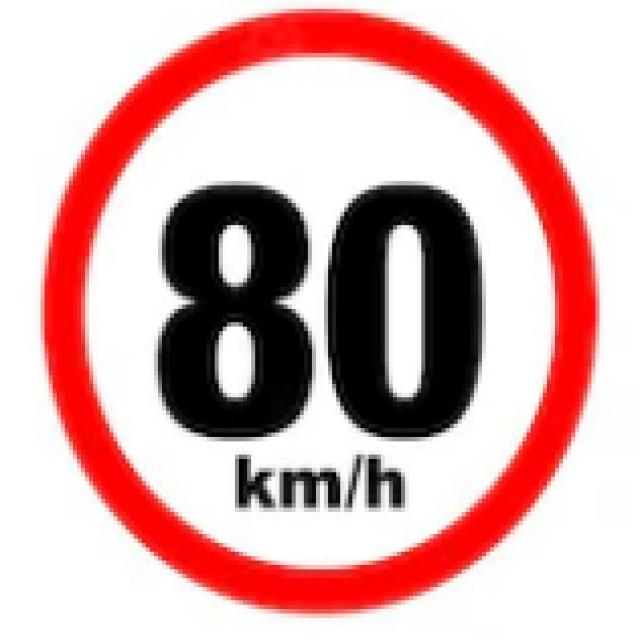Speed Limit -80-: (151, 178, 494, 443)
